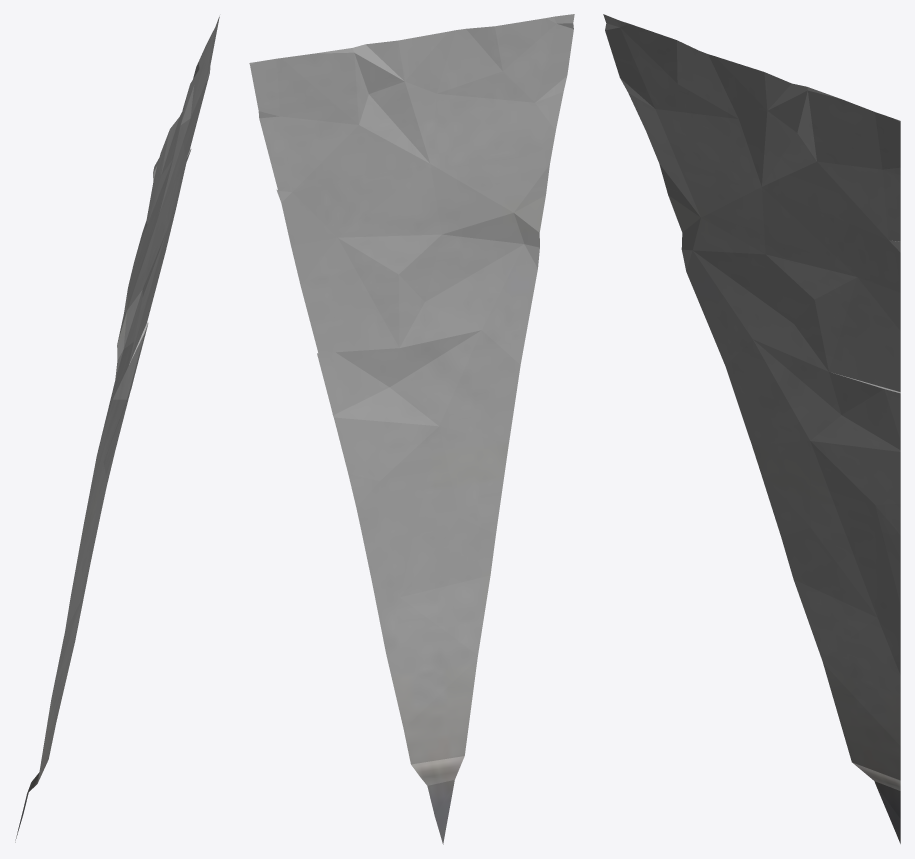
3 renders of one model, left to right at view 1: azimuth 30°, elevation 25°; view 2: azimuth 150°, elevation 25°; view 3: azimuth 270°, elevation 25°, orthographic. The views are drawn at different scales.
Size of the model in its own units: 0.2434 by 0.8815 by 0.2861.
1 material, 1 textured.
